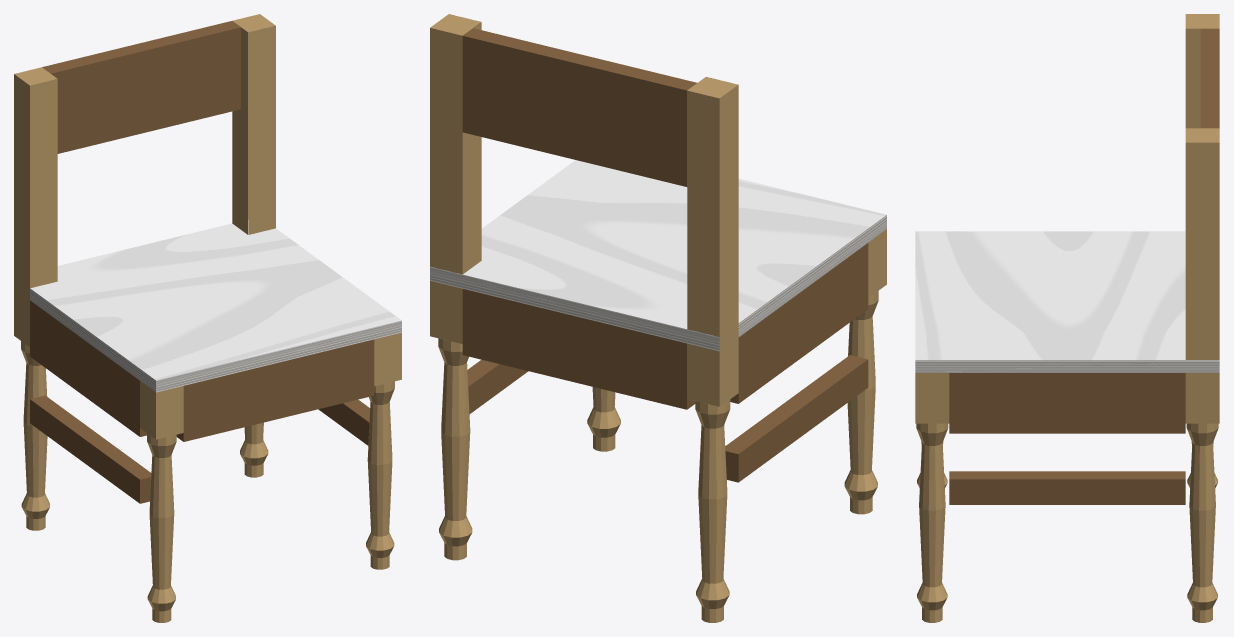
Rendered from FET-KCH-std.glb.
The picture shows the model from 3 angles, left to right: view 1: azimuth 30°, elevation 25°; view 2: azimuth 150°, elevation 25°; view 3: azimuth 270°, elevation 25°; orthographic projection. The views are drawn at different scales.
Visible parts, largest first — view 1: seat:sheet:eyJtIjoicGx5Iiwic2lkZSI6ImZhY2UiLCJzZWVkIjo2LCJ2Z, leg-bl:pbr, rail-f:pbr, leg-br:pbr, back-top:pbr, back-mid:pbr, leg-fl:pbr, rail-l:pbr, leg-fr:pbr, stretcher-l:pbr, seat:sheet:eyJtIjoicGx5Iiwic2lkZSI6ImVkZ2UtbG9uZyIsInNlZWQiO, seat:sheet:eyJtIjoicGx5Iiwic2lkZSI6ImVkZ2UtZW5kIiwic2VlZCI6N (+1 smaller); view 2: seat:sheet:eyJtIjoicGx5Iiwic2lkZSI6ImZhY2UiLCJzZWVkIjo2LCJ2Z, leg-bl:pbr, leg-br:pbr, back-top:pbr, rail-b:pbr, rail-l:pbr, back-mid:pbr, stretcher-l:pbr, leg-fl:pbr, seat:sheet:eyJtIjoicGx5Iiwic2lkZSI6ImVkZ2UtbG9uZyIsInNlZWQiO, seat:sheet:eyJtIjoicGx5Iiwic2lkZSI6ImVkZ2UtZW5kIiwic2VlZCI6N, stretcher-r:pbr (+1 smaller); view 3: seat:sheet:eyJtIjoicGx5Iiwic2lkZSI6ImZhY2UiLCJzZWVkIjo2LCJ2Z, leg-br:pbr, rail-r:pbr, stretcher-r:pbr, leg-fr:pbr, seat:sheet:eyJtIjoicGx5Iiwic2lkZSI6ImVkZ2UtZW5kIiwic2VlZCI6N, leg-bl:pbr, back-top:pbr.
Boxes of the visible parts, x1,y1,x2,y2 form: seat:sheet:eyJtIjoicGx5Iiwic2lkZSI6ImZhY2UiLCJzZWVkIjo2LCJ2Z: (30,220,401,380); leg-bl:pbr: (14,67,57,530); rail-f:pbr: (176,339,374,441); leg-br:pbr: (232,14,275,477); back-top:pbr: (42,21,240,113); back-mid:pbr: (57,69,240,153); leg-fl:pbr: (140,381,183,622); rail-l:pbr: (30,300,146,436); leg-fr:pbr: (366,332,401,569); stretcher-l:pbr: (30,395,151,503); seat:sheet:eyJtIjoicGx5Iiwic2lkZSI6ImVkZ2UtbG9uZyIsInNlZWQiO: (156,320,401,392); seat:sheet:eyJtIjoicGx5Iiwic2lkZSI6ImVkZ2UtZW5kIiwic2VlZCI6N: (30,288,155,391); seat:sheet:eyJtIjoicGx5Iiwic2lkZSI6ImZhY2UiLCJzZWVkIjo2LCJ2Z: (463,160,886,328); leg-bl:pbr: (687,77,738,622); leg-br:pbr: (430,14,481,560); back-top:pbr: (462,28,696,156); rail-b:pbr: (462,289,695,409); rail-l:pbr: (730,243,868,403); back-mid:pbr: (462,102,687,186); stretcher-l:pbr: (725,355,868,482); leg-fl:pbr: (844,229,886,514); seat:sheet:eyJtIjoicGx5Iiwic2lkZSI6ImVkZ2UtbG9uZyIsInNlZWQiO: (430,266,719,351); seat:sheet:eyJtIjoicGx5Iiwic2lkZSI6ImVkZ2UtZW5kIiwic2VlZCI6N: (738,215,886,336); stretcher-r:pbr: (467,359,528,413); seat:sheet:eyJtIjoicGx5Iiwic2lkZSI6ImZhY2UiLCJzZWVkIjo2LCJ2Z: (915,231,1219,360); leg-br:pbr: (1185,128,1219,622); rail-r:pbr: (949,373,1185,433); stretcher-r:pbr: (949,471,1185,504); leg-fr:pbr: (915,373,949,622); seat:sheet:eyJtIjoicGx5Iiwic2lkZSI6ImVkZ2UtZW5kIiwic2VlZCI6N: (915,360,1219,372); leg-bl:pbr: (1185,14,1219,487); back-top:pbr: (1200,28,1219,128).
Bounding box in the file's own units: 0.3201 × 0.56 × 0.32.
Materials: 15 (3 with a texture image).
